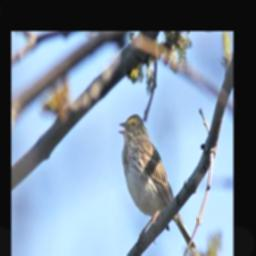Sparrow: (118, 111, 198, 252)
